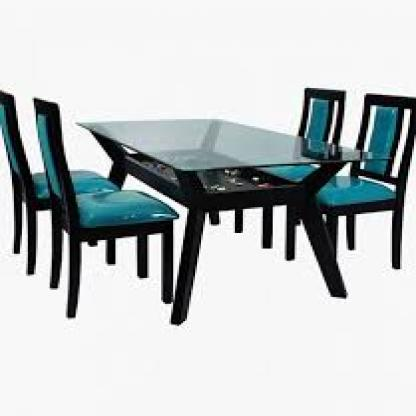Dining Table: (6, 41, 410, 318)
